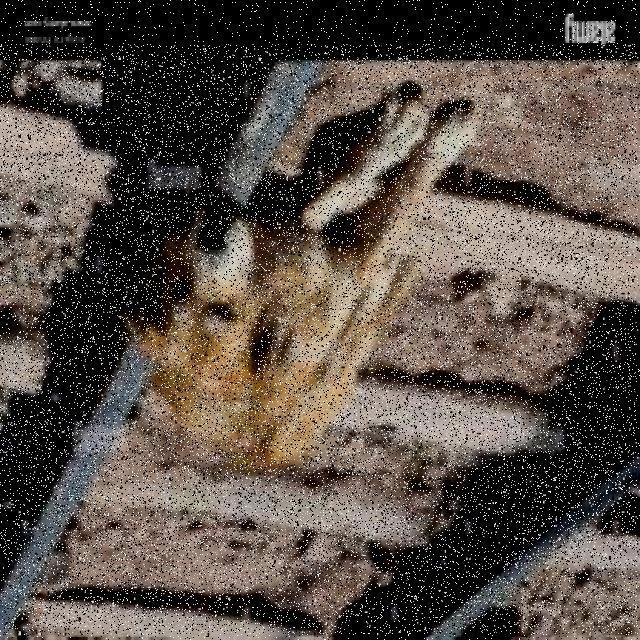danger: (105, 88, 483, 482)
rail: (0, 44, 637, 634)
